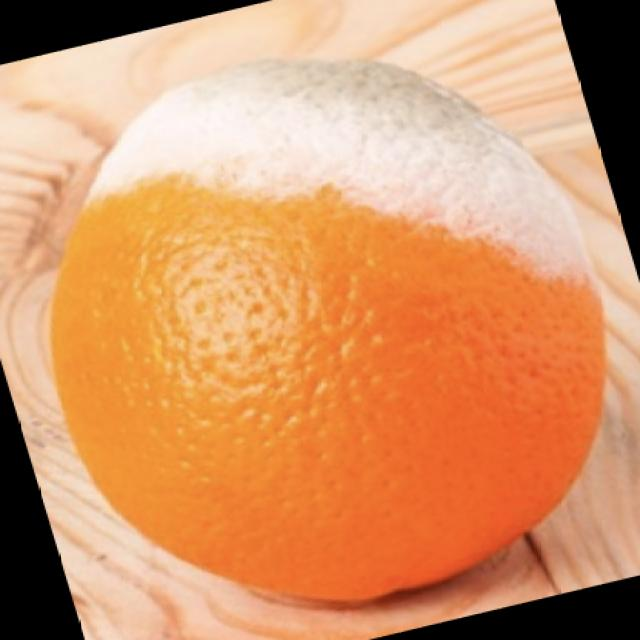sedikit_busuk: (50, 56, 606, 594)
